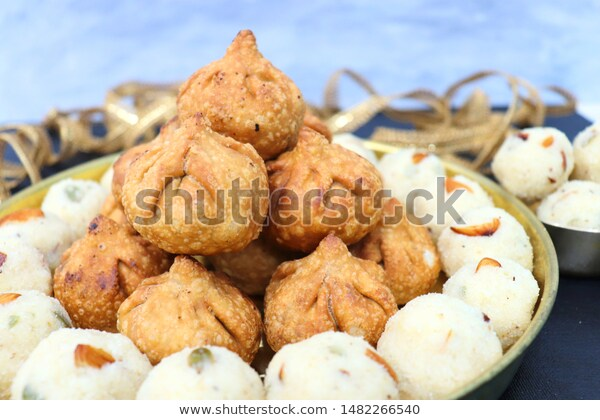modak: (124, 125, 262, 256), (272, 236, 400, 352), (179, 26, 303, 134), (129, 260, 250, 365), (271, 136, 388, 241), (59, 216, 157, 325), (367, 201, 450, 300)
